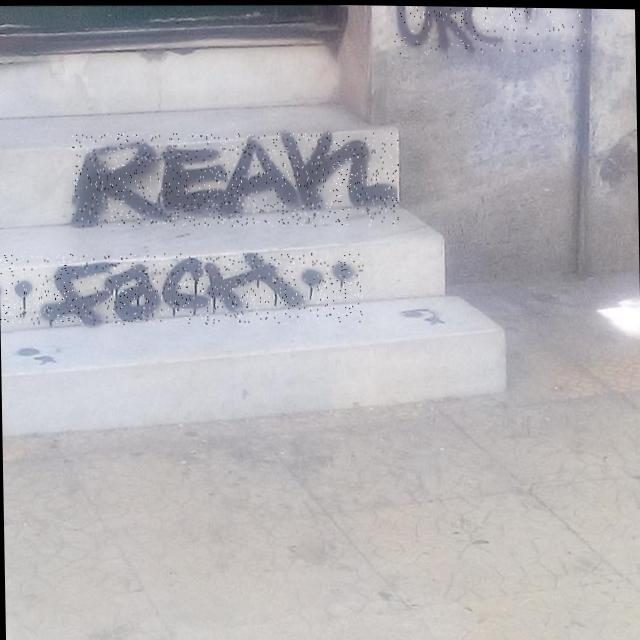-: (70, 127, 400, 230), (0, 247, 364, 328), (392, 5, 586, 54)
